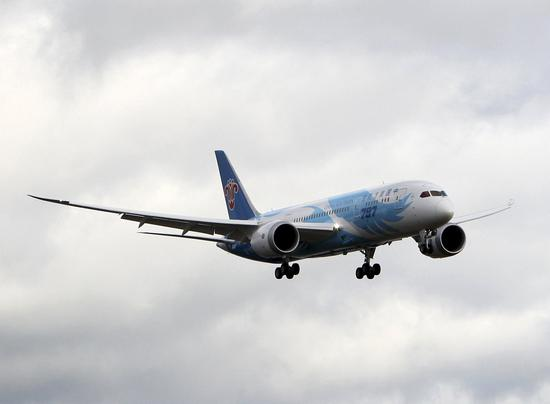airplane: (19, 148, 522, 281)
